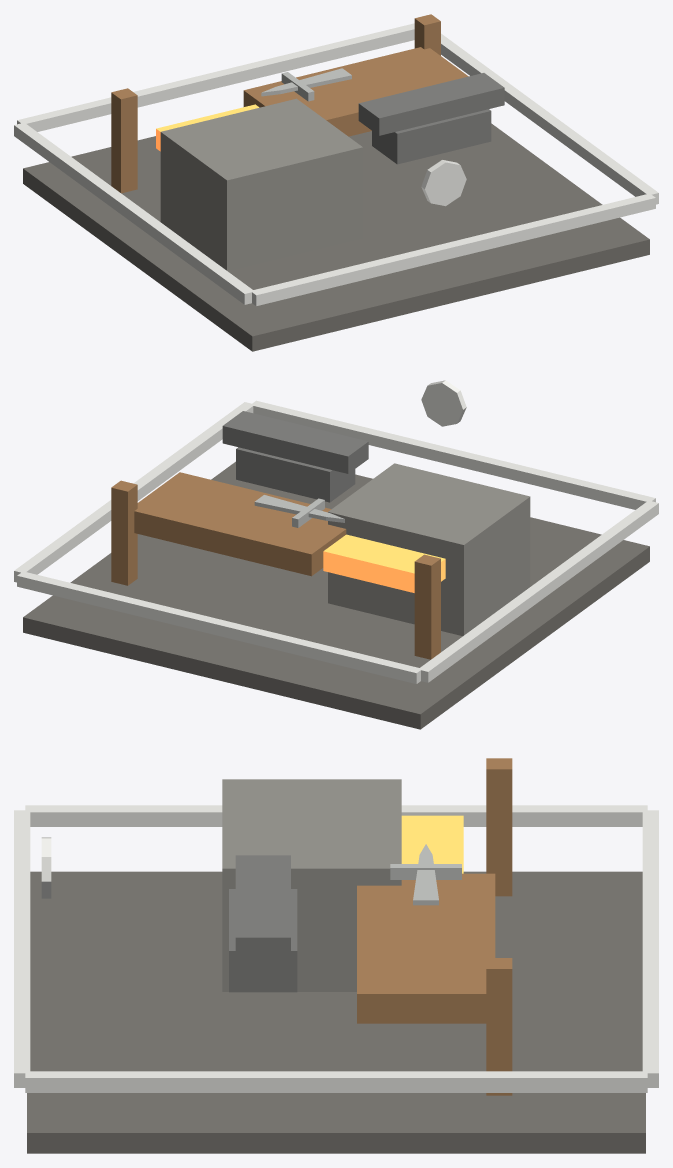
The model's file is t8_weapon_smith.glb.
The picture shows the model from 3 angles, top to bottom: view 1: azimuth 30°, elevation 25°; view 2: azimuth 150°, elevation 25°; view 3: azimuth 270°, elevation 25°; orthographic projection. The views are drawn at different scales.
Visible parts, largest first — view 1: FootprintBase, ForgeBody, WorkTable, TierFrontTrim, TierBackTrim, AnvilTop, TierLeftTrim, TierRightTrim, AnvilBody, RackPostL, TierEmblem, RackPostR (+2 smaller); view 2: FootprintBase, ForgeBody, WorkTable, TierBackTrim, TierFrontTrim, AnvilTop, TierLeftTrim, TierRightTrim, ForgeGlow, AnvilBody, RackPostL, RackPostR (+2 smaller); view 3: FootprintBase, ForgeBody, WorkTable, TierRightTrim, TierLeftTrim, AnvilTop, TierBackTrim, TierFrontTrim, RackPostL, AnvilBody, RackPostR, ForgeGlow (+3 smaller).
Boxes of the visible parts, x1,y1,x2,y2 form: FootprintBase: [23, 123, 649, 351]; ForgeBody: [160, 98, 362, 271]; WorkTable: [243, 47, 468, 136]; TierFrontTrim: [251, 194, 655, 306]; TierBackTrim: [17, 23, 414, 131]; AnvilTop: [358, 73, 504, 135]; TierLeftTrim: [14, 123, 252, 304]; TierRightTrim: [441, 33, 658, 204]; AnvilBody: [372, 109, 491, 164]; RackPostL: [111, 88, 137, 193]; TierEmblem: [421, 160, 466, 206]; RackPostR: [414, 14, 440, 55]; FootprintBase: [23, 461, 649, 729]; ForgeBody: [328, 463, 530, 636]; WorkTable: [134, 472, 346, 576]; TierBackTrim: [17, 571, 421, 683]; TierFrontTrim: [251, 400, 655, 509]; AnvilTop: [222, 411, 368, 473]; TierLeftTrim: [419, 500, 658, 682]; TierRightTrim: [14, 402, 253, 582]; ForgeGlow: [323, 534, 445, 592]; AnvilBody: [236, 447, 355, 502]; RackPostL: [414, 554, 440, 659]; RackPostR: [111, 480, 137, 585]; FootprintBase: [27, 871, 645, 1153]; ForgeBody: [222, 779, 401, 991]; WorkTable: [357, 873, 495, 1023]; TierRightTrim: [25, 1071, 647, 1092]; TierLeftTrim: [25, 805, 647, 826]; AnvilTop: [235, 855, 290, 961]; TierBackTrim: [642, 810, 658, 1087]; TierFrontTrim: [14, 810, 30, 1087]; RackPostL: [486, 758, 512, 896]; AnvilBody: [229, 889, 297, 992]; RackPostR: [486, 958, 512, 1095]; ForgeGlow: [401, 815, 463, 873].
Bounding box in the file's own units: 3.96 × 1.25 × 3.96.
